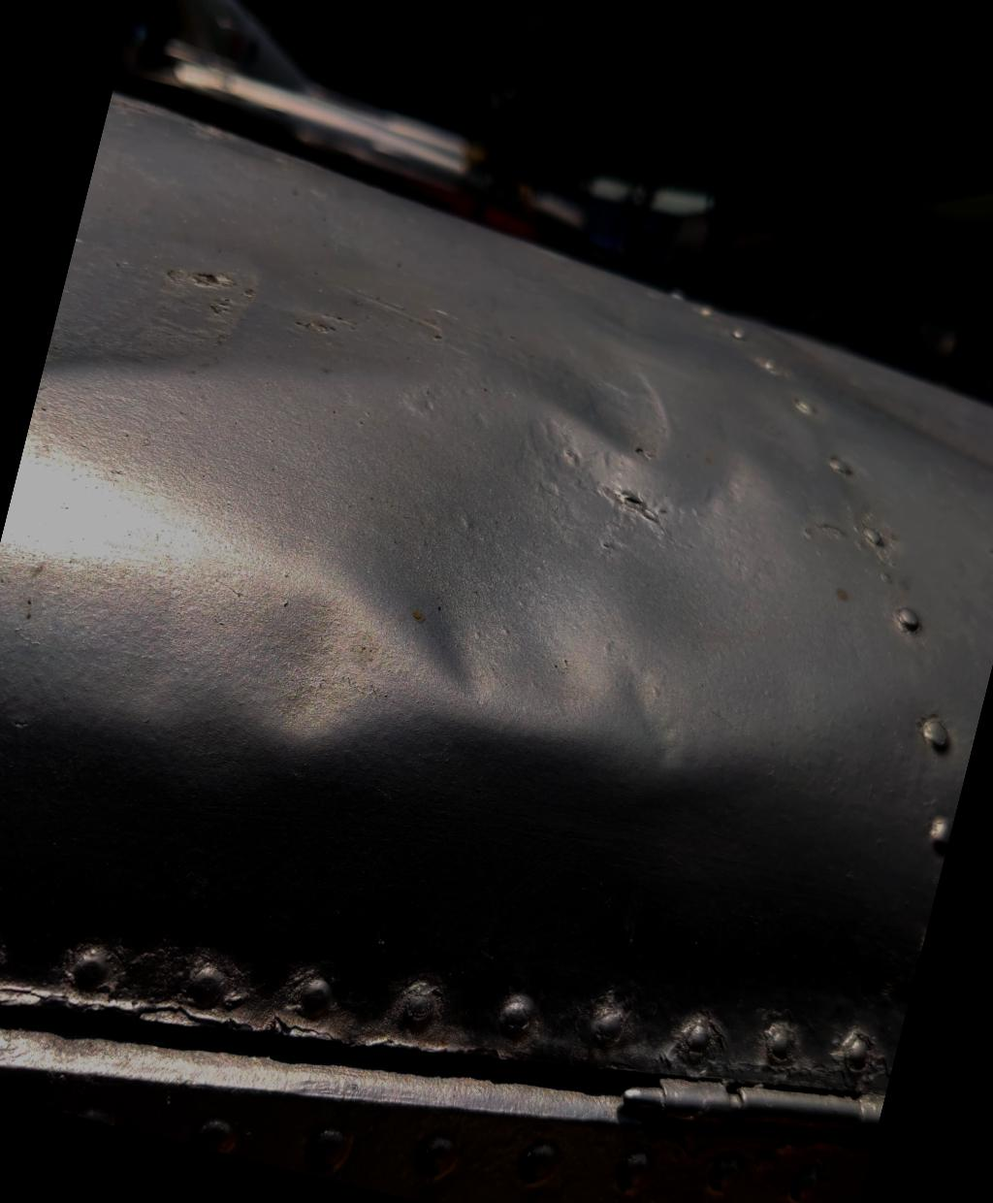dent: (169, 211, 933, 931)
